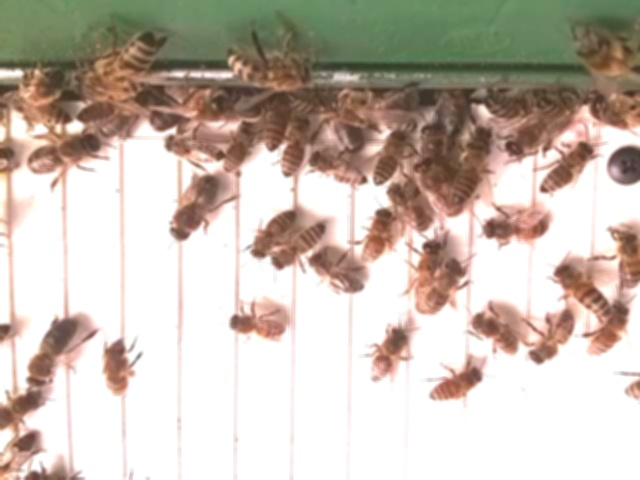Drone: (23, 315, 78, 391), (166, 173, 221, 245), (22, 133, 105, 179), (409, 237, 445, 320)
Worker: (554, 263, 615, 319), (536, 143, 594, 197), (526, 310, 578, 367), (365, 324, 410, 388), (270, 221, 327, 271), (467, 309, 522, 360), (249, 207, 297, 265), (307, 148, 368, 192), (424, 364, 486, 407), (585, 303, 630, 361), (305, 256, 366, 297), (158, 133, 226, 169), (450, 139, 486, 207), (370, 127, 409, 189), (386, 183, 433, 234), (482, 212, 549, 246), (278, 117, 314, 180), (225, 309, 286, 346), (357, 209, 397, 265), (219, 121, 259, 176), (101, 336, 133, 401), (611, 229, 640, 292)
